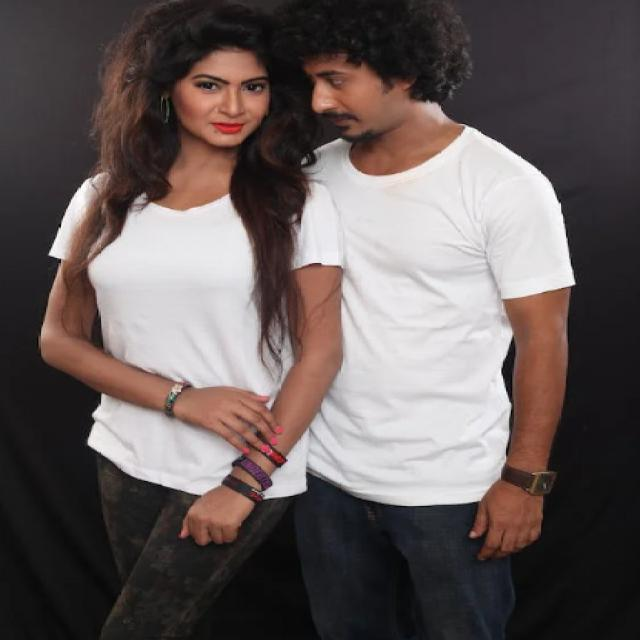Watch: (500, 462, 562, 502)
